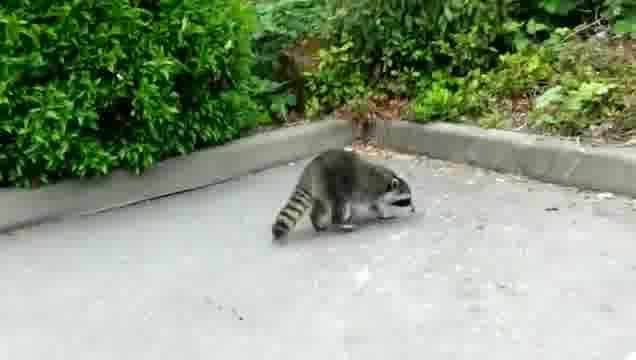raccoon: (260, 145, 418, 243)
